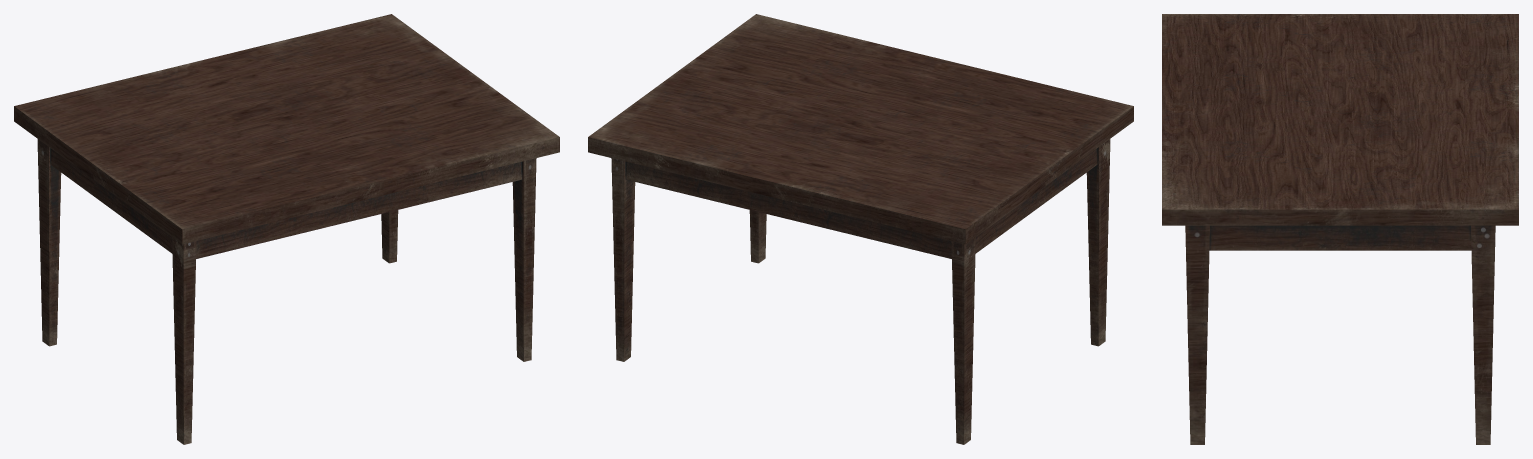
Rendered from mesinha.fbx.
3 renders of one model, left to right at view 1: azimuth 30°, elevation 25°; view 2: azimuth 150°, elevation 25°; view 3: azimuth 270°, elevation 25°, orthographic. The views are drawn at different scales.
Visible parts, largest first — view 1: Mesa; view 2: Mesa; view 3: Mesa.
Part boxes in pixels (left/top/right/bottom): Mesa: left=14, top=14, right=559, bottom=444; Mesa: left=588, top=14, right=1133, bottom=444; Mesa: left=1162, top=14, right=1518, bottom=444.
Size of the model in its own units: 132 by 76.29 by 102.
